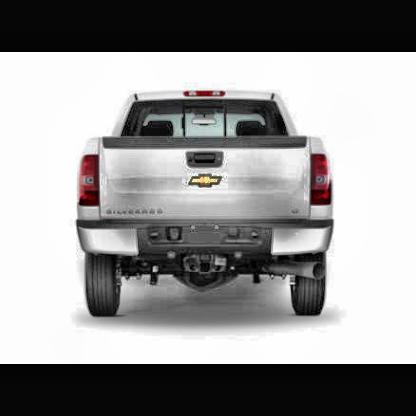Chevrolet Silverado 2500HD Regular Cab 2012: (77, 90, 333, 320)
